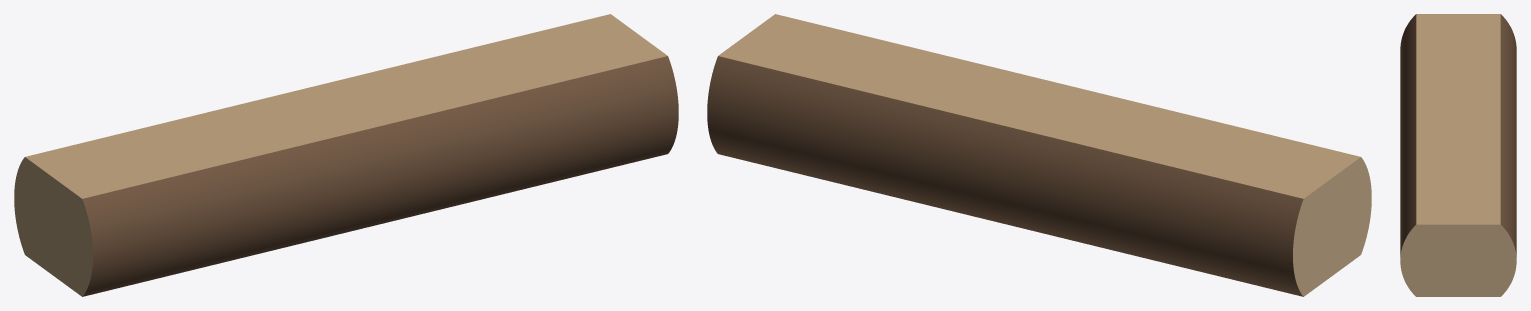
The model's file is SM_RawLog_150_Hewn2.fbx.
3 views of the same model, side by side, from view 1: azimuth 30°, elevation 25°; view 2: azimuth 150°, elevation 25°; view 3: azimuth 270°, elevation 25° (orthographic). The views are drawn at different scales.
Visible parts, largest first — view 1: RawLog_150_Hewn2; view 2: RawLog_150_Hewn2; view 3: RawLog_150_Hewn2.
Boxes of the visible parts, x1=… form: RawLog_150_Hewn2: x1=14, y1=14, x2=678, y2=296; RawLog_150_Hewn2: x1=707, y1=14, x2=1371, y2=296; RawLog_150_Hewn2: x1=1400, y1=14, x2=1516, y2=296.
Size of what is drawn, in the model's own units: 1.5 by 0.24 by 0.35.
